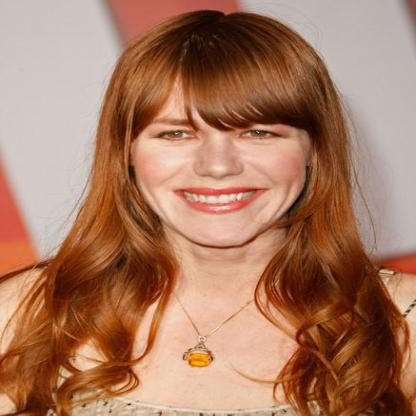long-hair: (24, 247, 407, 322)
